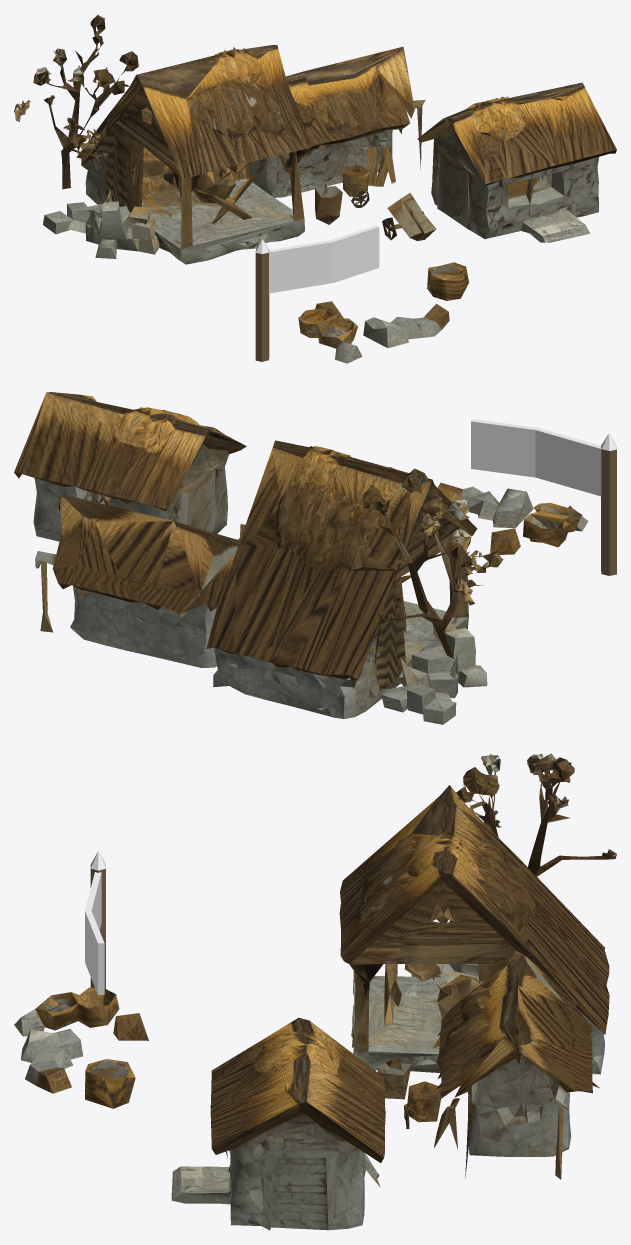
3 views of the same model, one above another, from view 1: azimuth 30°, elevation 25°; view 2: azimuth 150°, elevation 25°; view 3: azimuth 270°, elevation 25° (orthographic). The views are drawn at different scales.
Visible parts, largest first — view 1: mining_camp, Team_banner; view 2: mining_camp, Team_banner; view 3: mining_camp, Team_banner.
Boxes of the visible parts, x1,y1,x2,y2 form: mining_camp: (14, 14, 616, 363); Team_banner: (255, 225, 379, 361); mining_camp: (14, 392, 588, 724); Team_banner: (471, 419, 616, 575); mining_camp: (14, 753, 616, 1230); Team_banner: (85, 851, 105, 994).
Size of the model in its own units: 1.88 by 0.7817 by 1.66.
Materials: 3 (1 with a texture image).
